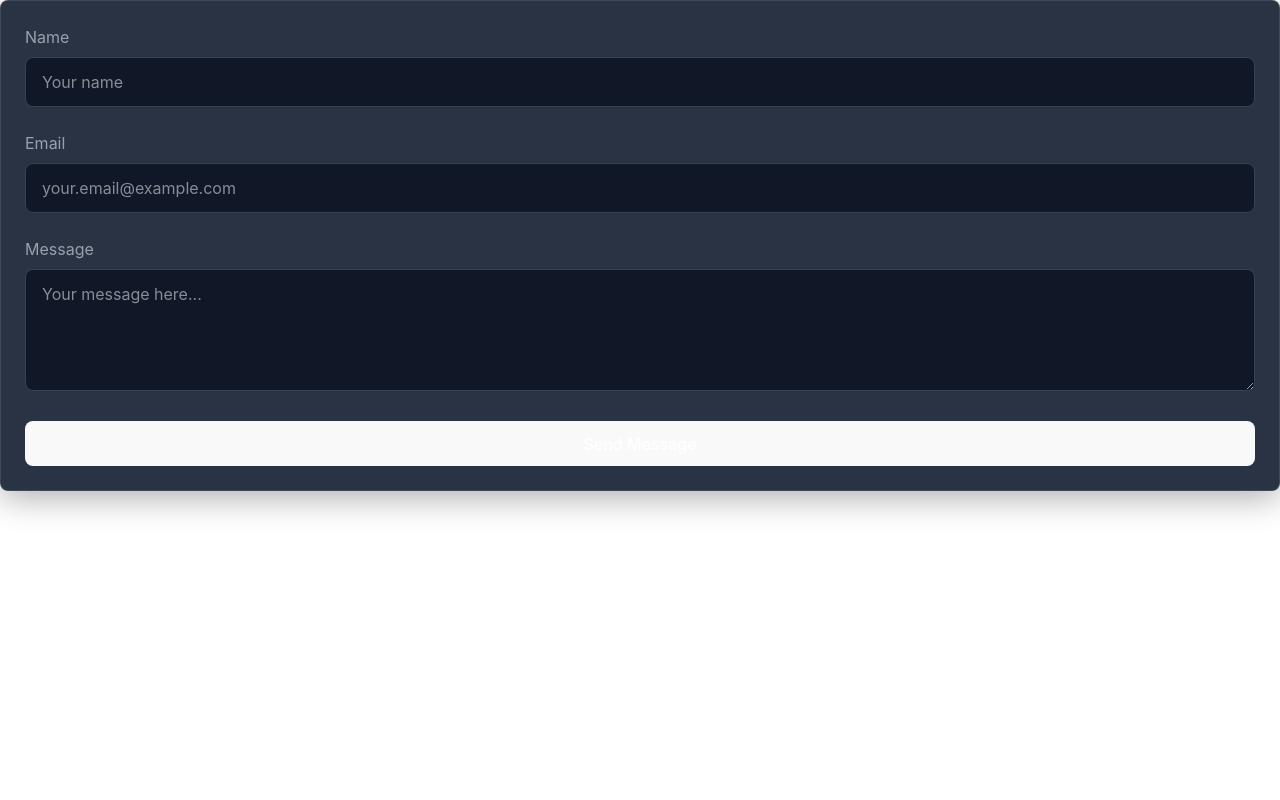
Scenario: ContactForm › Form Submission › should show error message on submission failure
This screenshot has width=1280, height=800.
Type "John Doe" into the field with placeholder "Your name". click: (640, 82)
box: [25,57,1255,107]
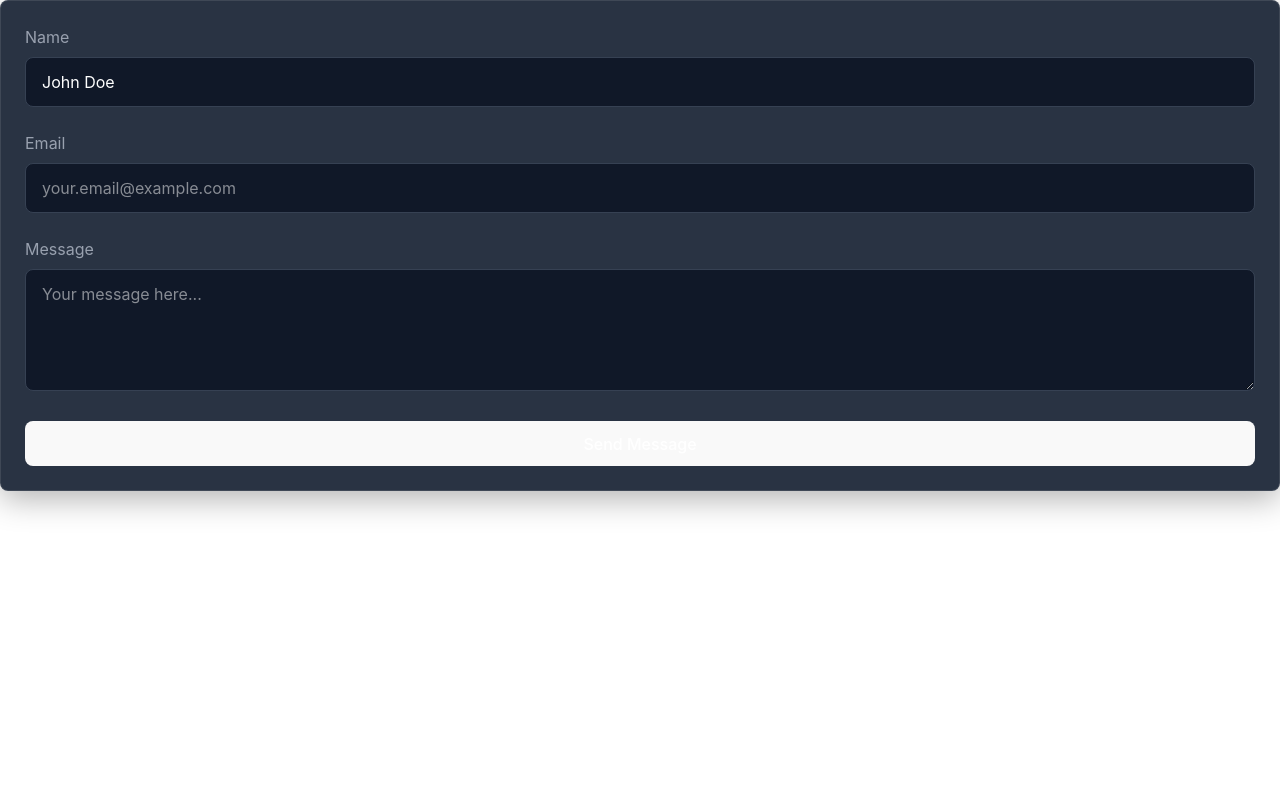
Type "john@example.com" into the field with placeholder "your.email@example.com". click: (640, 188)
box: [25,163,1255,213]
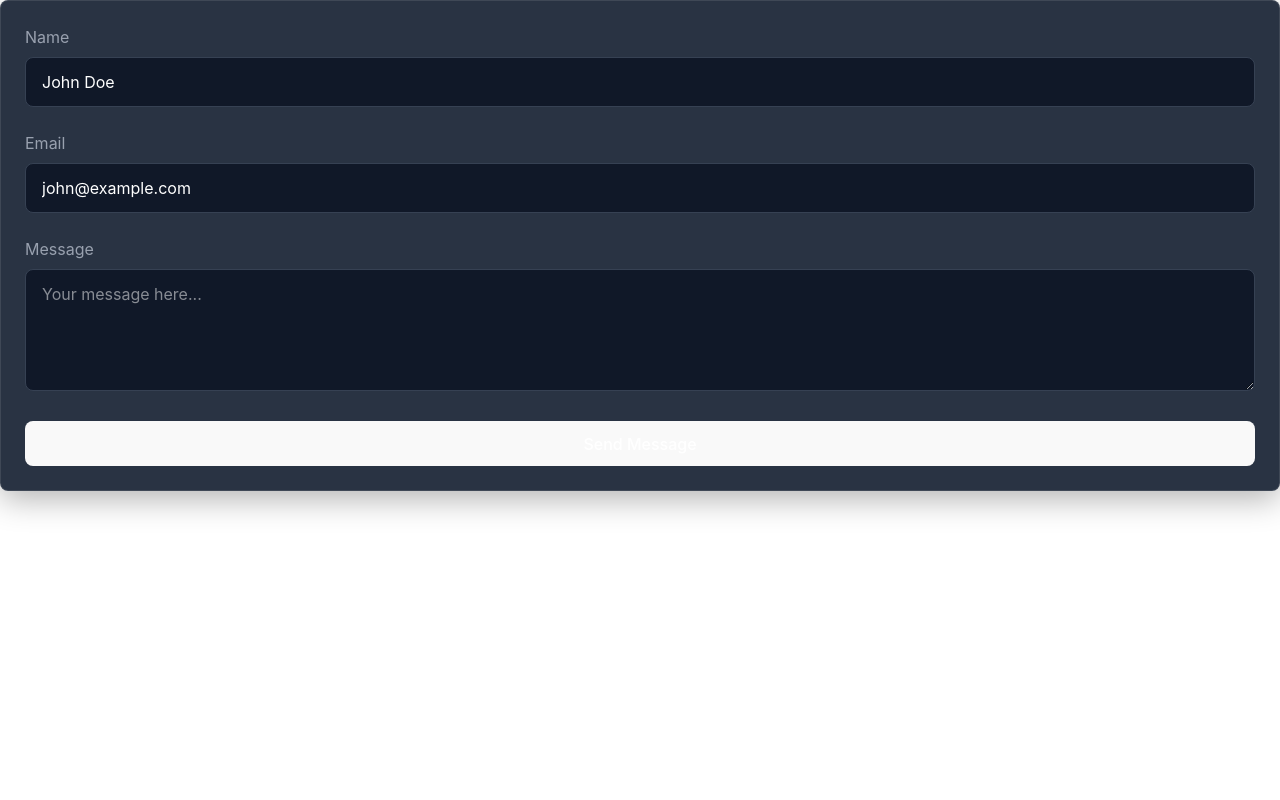
Type "This is a test message" into the text box with placeholder "Your message here...". click: (640, 330)
box: [25,269,1255,391]
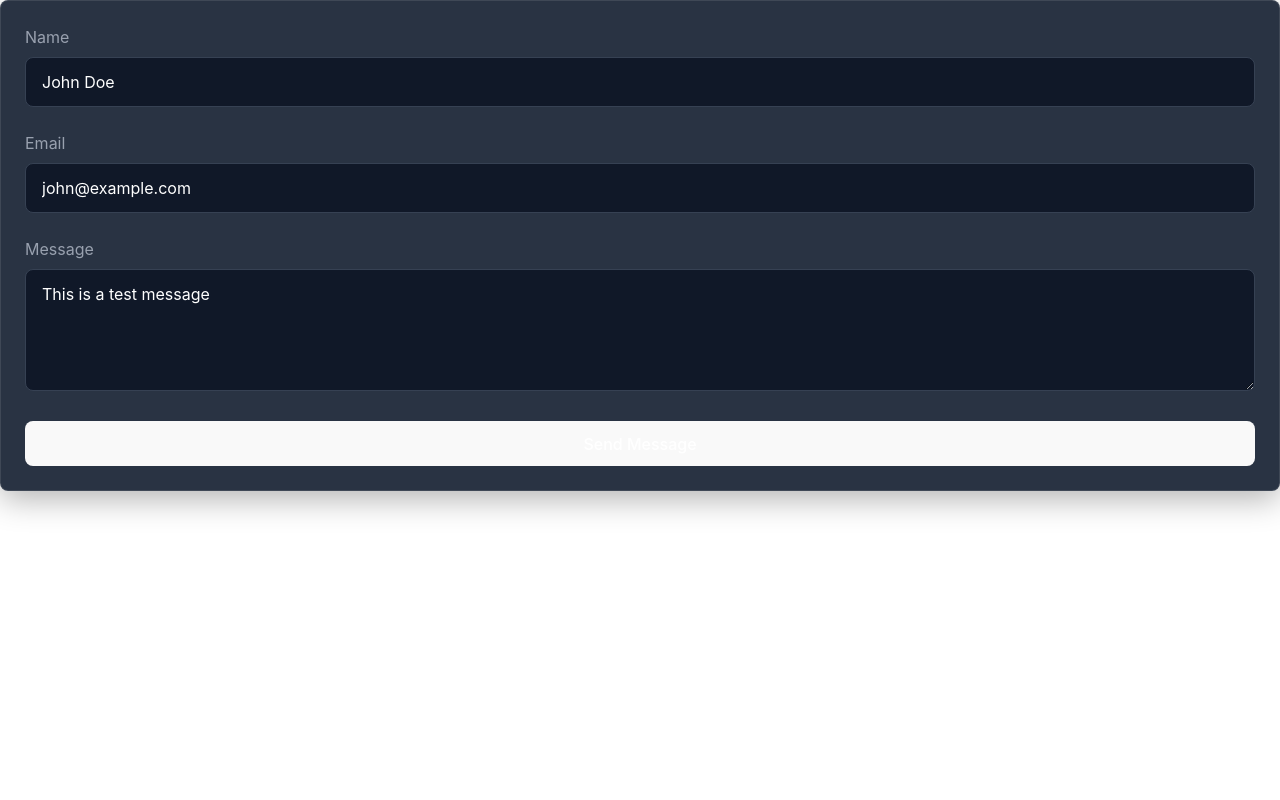
Submit the form with placeholder "your name", box [25,25,1255,466]
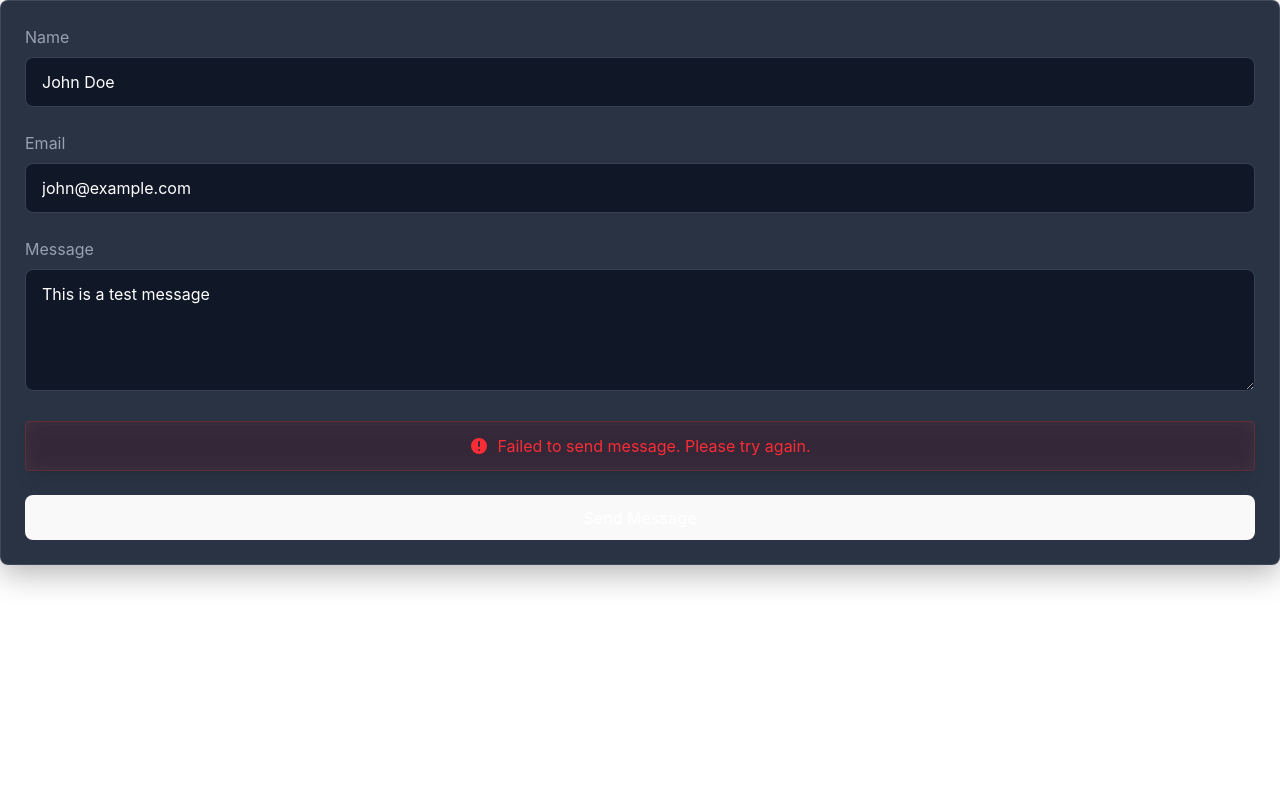
Result: the text "Failed to send message. Please try again." is shown at [25,421,1255,471]
